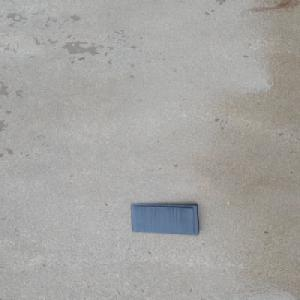PlasticPart: (130, 202, 201, 235)
